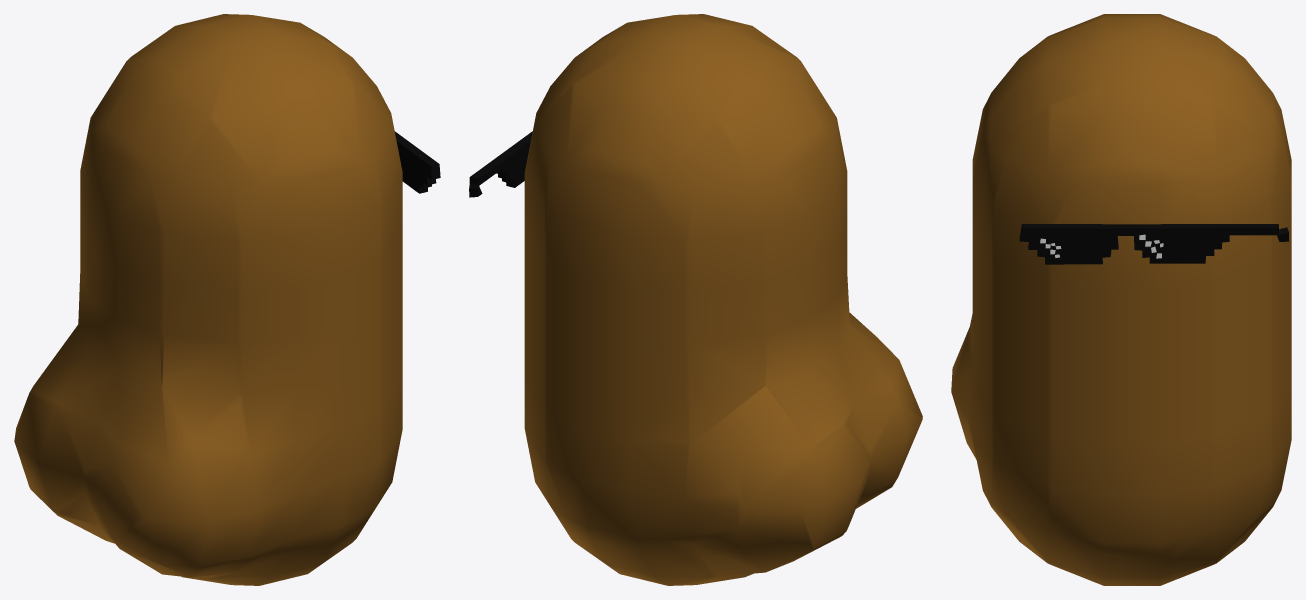
File: Blendebean.fbx
3 renders of one model, left to right at view 1: azimuth 30°, elevation 25°; view 2: azimuth 150°, elevation 25°; view 3: azimuth 270°, elevation 25°, orthographic.
Visible parts, largest first — view 1: Cube; view 2: Cube; view 3: Cube.
Boxes of the visible parts, x1=… form: Cube: x1=14, y1=14, x2=440, y2=585; Cube: x1=469, y1=14, x2=922, y2=585; Cube: x1=951, y1=14, x2=1291, y2=585.
Size of the model in its own units: 274 by 423 by 242.
